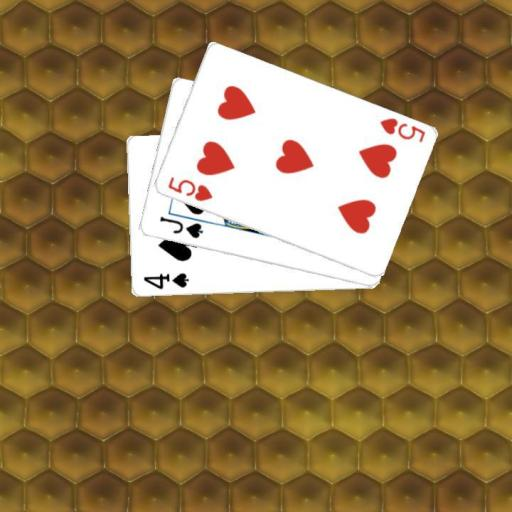4S: (139, 270, 190, 292)
5H: (375, 115, 426, 145), (164, 174, 214, 204)
JS: (157, 214, 204, 241)
